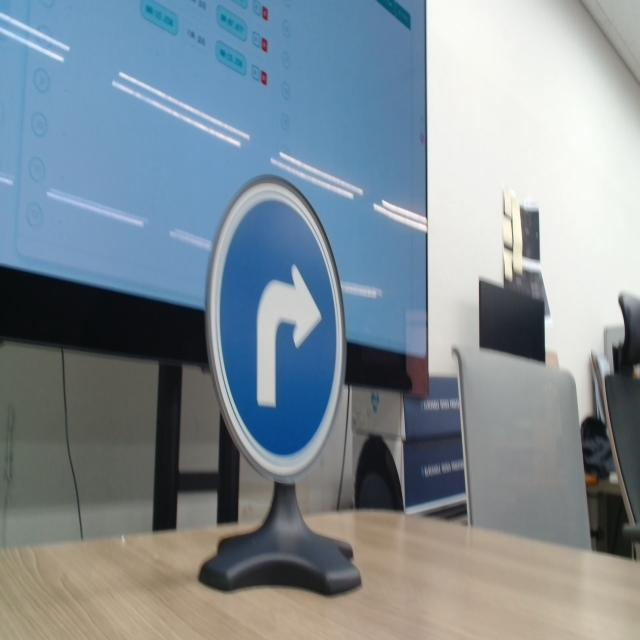right_dierection: (181, 136, 381, 542)
